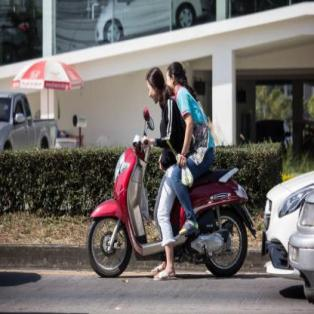Motocicleta: (88, 125, 252, 284)
